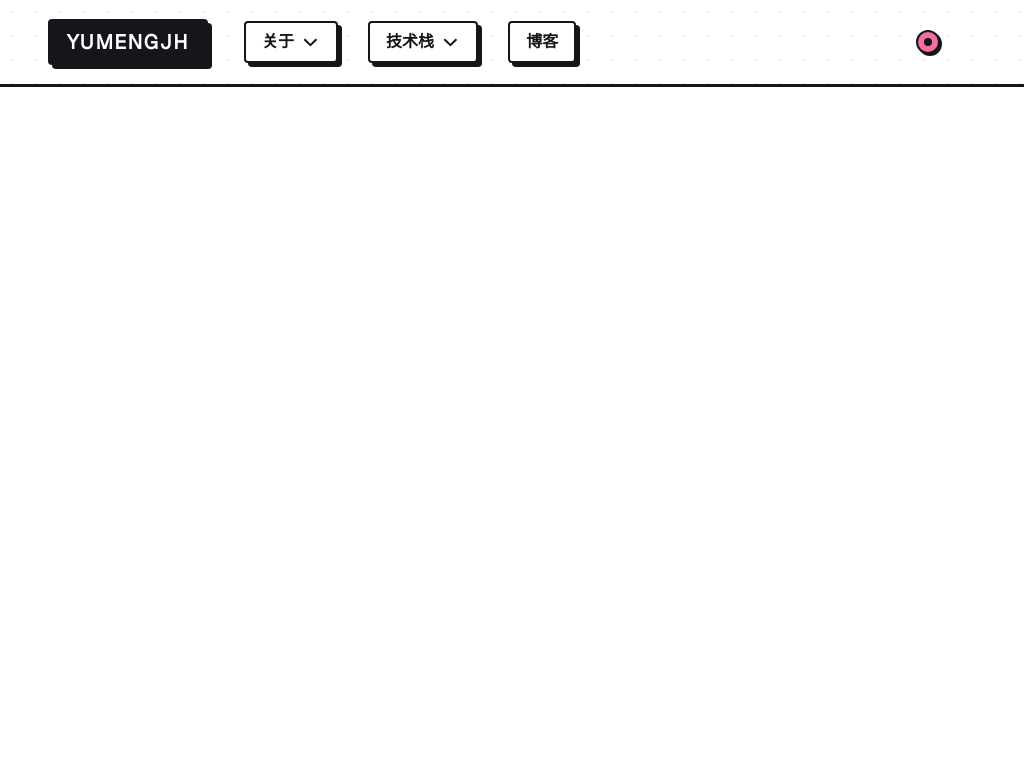
Test case: TopNavigationBar › 桌面端点击打开后，悬浮其他导航项会自动切换菜单
Click the button "关于": (291, 42) [244,21,338,63]
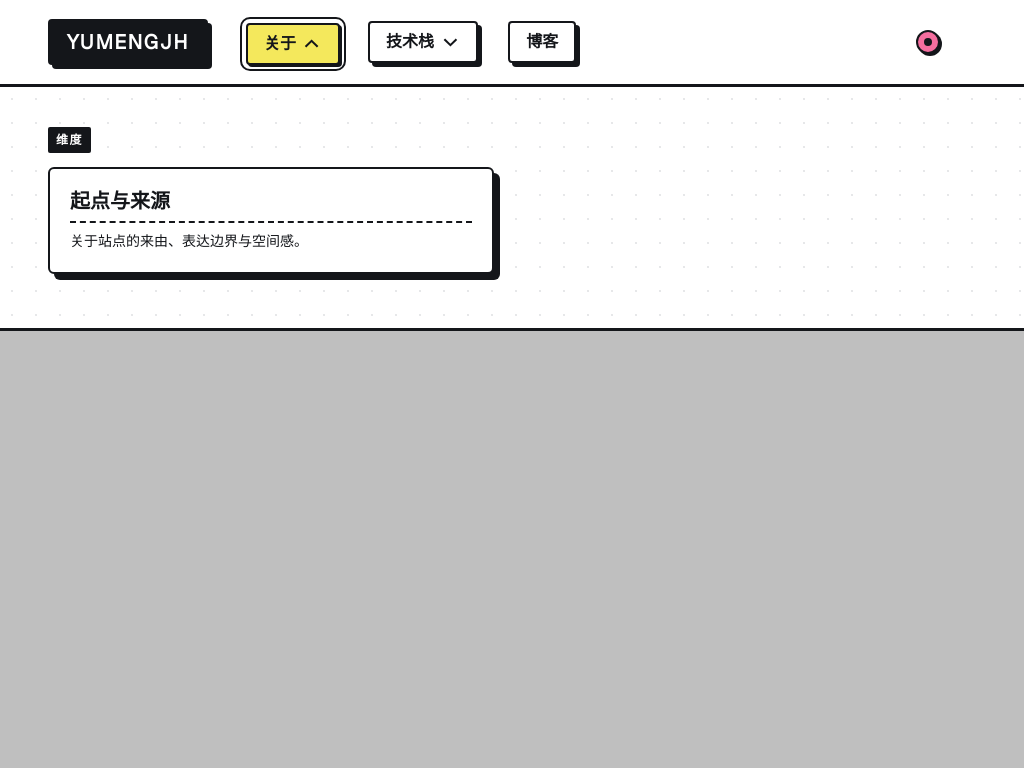
Expected: the text "起点与来源" is shown, [70,188,170,214]
Expected: the button "关于" is expanded, [246,23,340,65]
Hover over the button "技术栈": (423, 42) [368,21,478,63]
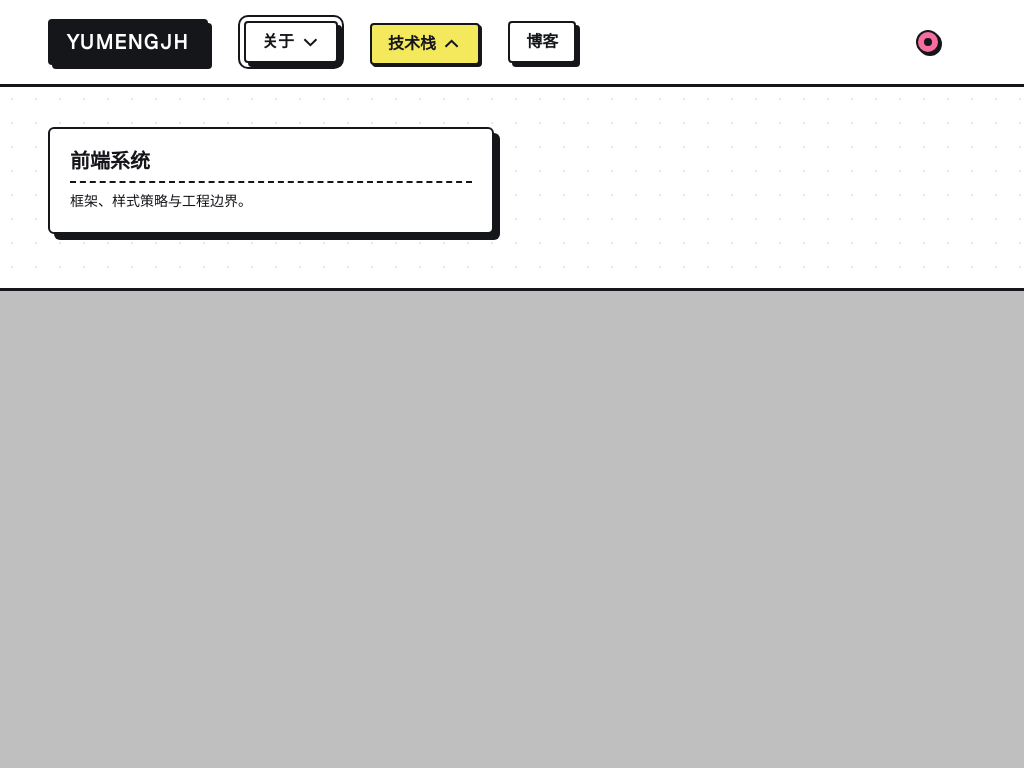
Expected: the button "关于" is collapsed, [244,21,338,63]
Expected: the button "技术栈" is expanded, [370,23,480,65]
Expected: the text "前端系统" is shown, [70,148,150,174]
